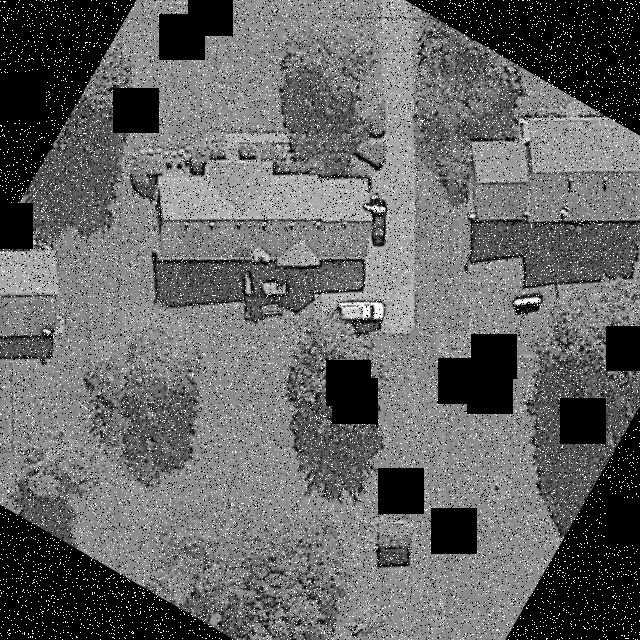Driveway: (316, 0, 415, 332), (225, 133, 289, 160)
House: (154, 173, 365, 259)
Other: (378, 519, 413, 545)
